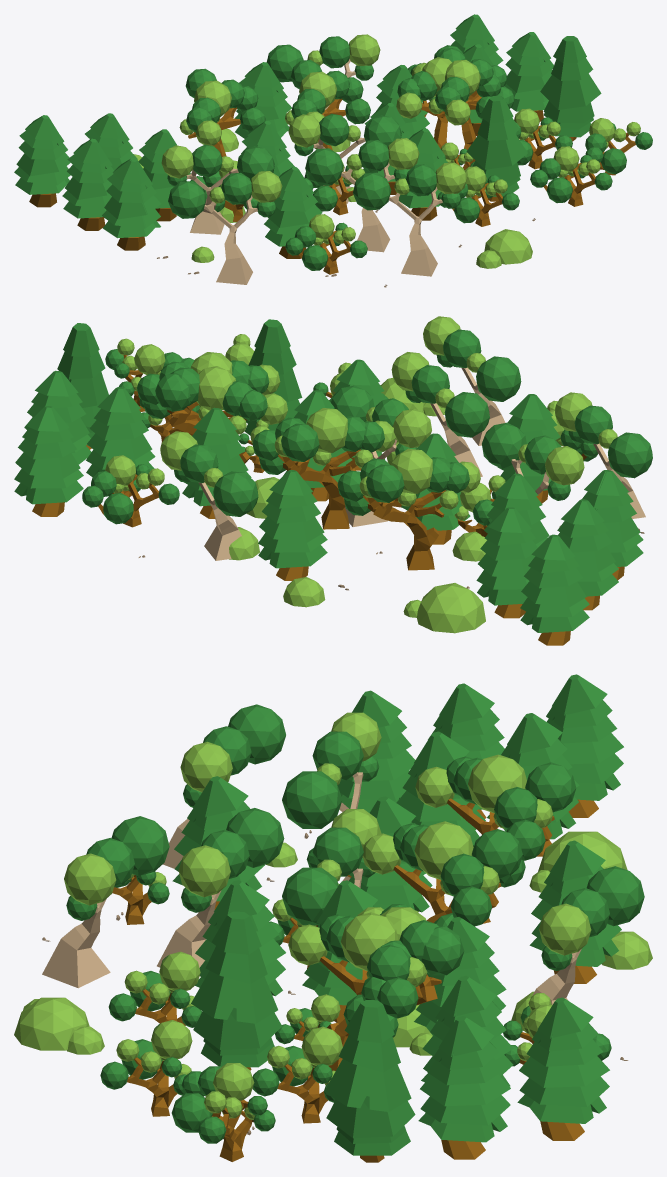
Rendered from SummerForestV1.fbx.
The picture shows the model from 3 angles, top to bottom: view 1: azimuth 30°, elevation 25°; view 2: azimuth 150°, elevation 25°; view 3: azimuth 270°, elevation 25°; orthographic projection. The views are drawn at different scales.
Visible parts, largest first — view 1: Tree1.003|Cube|Dupli|, Tree1.002|Cube|Dupli|, Tree5.001|Cylinder.011|Dupli|4, Cylinder.011, Icosphere.033, Tree1.003|Icosphere.004|Dupli|5, Tree1.001|Icosphere.004|Dupli|5, Tree1.002|Icosphere.004|Dupli|5, Tree1.001|Cube|Dupli|, Tree1|Cube|Dupli|, Tree1.004|Icosphere.004|Dupli|5, Tree1|Icosphere.004|Dupli|5 (+83 smaller); view 2: Icosphere.032, Tree2|Cube.001|Dupli|, Tree2.002|Cube.001|Dupli|, Tree1.001|Icosphere.004|Dupli|5, Tree1.004|Icosphere.004|Dupli|5, Tree1.002|Icosphere.004|Dupli|5, Tree1.003|Icosphere.004|Dupli|5, Tree1|Icosphere.004|Dupli|5, Tree2|Icosphere.009|Dupli|5, Tree2.002|Icosphere.009|Dupli|5, Tree1.004|Cube|Dupli|, Tree1|Icosphere.001|Dupli|2 (+99 smaller); view 3: Tree5.001|Cylinder.011|Dupli|4, Icosphere.033, Tree1.002|Cube|Dupli|, Cylinder.011, Tree1|Icosphere.004|Dupli|5, Tree5|Cylinder.011|Dupli|4, Icosphere.004, Tree5.001|Cylinder.010|Dupli|3, Tree1.003|Icosphere.004|Dupli|5, Tree1.001|Icosphere.004|Dupli|5, Tree1.004|Icosphere.004|Dupli|5, Tree1.002|Icosphere.004|Dupli|5 (+101 smaller).
Boxes of the visible parts, box(x1,y1,x2,y2) form: Tree1.003|Cube|Dupli|: box(204, 195, 257, 284); Tree1.002|Cube|Dupli|: box(389, 187, 442, 276); Tree5.001|Cylinder.011|Dupli|4: box(466, 133, 527, 169); Cylinder.011: box(540, 73, 601, 109); Icosphere.033: box(484, 229, 532, 264); Tree1.003|Icosphere.004|Dupli|5: box(168, 181, 206, 218); Tree1.001|Icosphere.004|Dupli|5: box(305, 148, 343, 185); Tree1.002|Icosphere.004|Dupli|5: box(353, 172, 391, 210); Tree1.001|Cube|Dupli|: box(341, 162, 394, 252); Tree1|Cube|Dupli|: box(186, 168, 238, 234); Tree1.004|Icosphere.004|Dupli|5: box(267, 44, 303, 82); Tree1|Icosphere.004|Dupli|5: box(237, 146, 274, 180); Icosphere.032: box(417, 583, 485, 633); Tree2|Cube.001|Dupli|: box(363, 490, 445, 570); Tree2.002|Cube.001|Dupli|: box(278, 449, 360, 529); Tree1.001|Icosphere.004|Dupli|5: box(444, 392, 489, 437); Tree1.004|Icosphere.004|Dupli|5: box(213, 471, 258, 516); Tree1.002|Icosphere.004|Dupli|5: box(476, 356, 521, 401); Tree1.003|Icosphere.004|Dupli|5: box(608, 432, 652, 478); Tree1|Icosphere.004|Dupli|5: box(482, 422, 526, 468); Tree2|Icosphere.009|Dupli|5: box(391, 448, 432, 493); Tree2.002|Icosphere.009|Dupli|5: box(306, 408, 347, 453); Tree1.004|Cube|Dupli|: box(198, 482, 241, 560); Tree1|Icosphere.001|Dupli|2: box(545, 446, 584, 485); Tree5.001|Cylinder.011|Dupli|4: box(191, 970, 277, 1023); Icosphere.033: box(14, 997, 89, 1050); Tree1.002|Cube|Dupli|: box(42, 898, 110, 988); Cylinder.011: box(324, 1059, 411, 1111); Tree1|Icosphere.004|Dupli|5: box(282, 771, 342, 828); Tree5|Cylinder.011|Dupli|4: box(324, 1060, 410, 1111); Icosphere.004: box(282, 867, 338, 925); Tree5.001|Cylinder.010|Dupli|3: box(193, 1011, 282, 1049); Tree1.003|Icosphere.004|Dupli|5: box(228, 704, 285, 764); Tree1.001|Icosphere.004|Dupli|5: box(226, 808, 284, 867); Tree1.004|Icosphere.004|Dupli|5: box(586, 866, 644, 926); Tree1.002|Icosphere.004|Dupli|5: box(111, 816, 169, 875).
Size of the model in its own units: 4437 by 870 by 3077.
